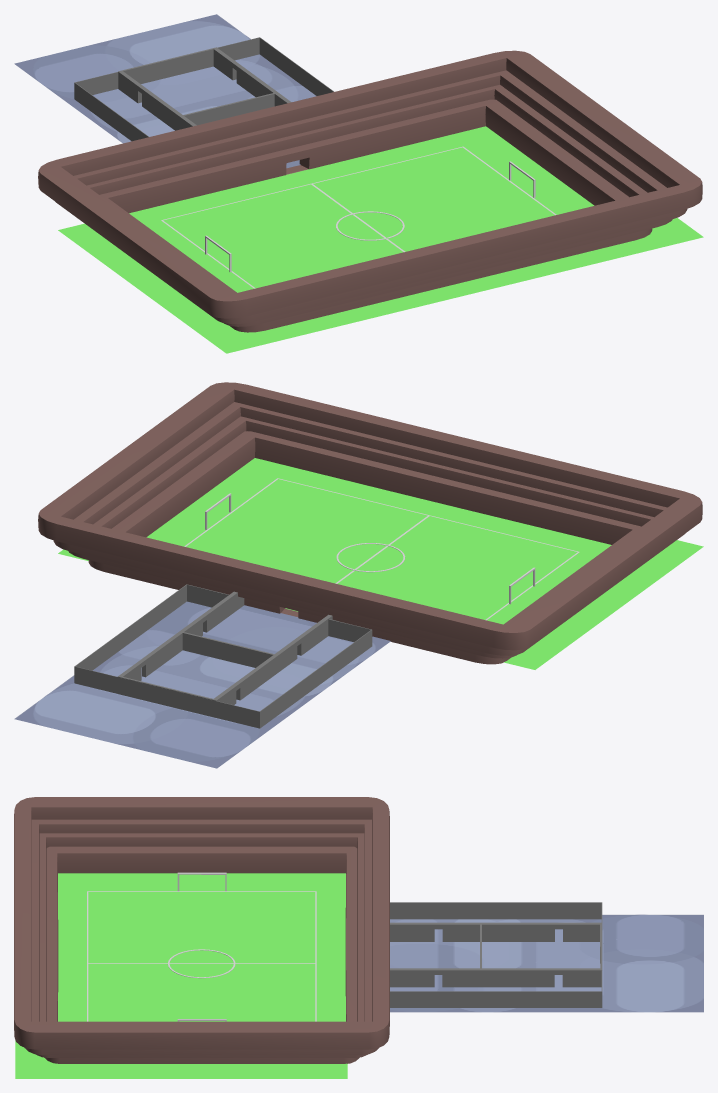
The model's file is estadioNacional.fbx.
3 renders of one model, top to bottom at view 1: azimuth 30°, elevation 25°; view 2: azimuth 150°, elevation 25°; view 3: azimuth 270°, elevation 25°, orthographic.
Visible parts, largest first — view 1: cUBE, Plane.007, Plane.002, Cube.002, Cube, Cube.001; view 2: cUBE, Plane.007, Plane.002, Cube, Cube.001, Cube.002; view 3: cUBE, Plane.007, Plane.002, Cube, Cube.002, Cube.001.
Part boxes in pixels (<box>): cUBE: <box>38,50,702,332</box>; Plane.007: <box>58,126,703,353</box>; Plane.002: <box>14,14,316,168</box>; Cube.002: <box>118,47,276,130</box>; Cube: <box>74,37,334,141</box>; Cube.001: <box>179,92,291,129</box>; cUBE: <box>38,382,702,664</box>; Plane.007: <box>58,458,703,669</box>; Plane.002: <box>14,601,390,768</box>; Cube: <box>74,584,372,728</box>; Cube.001: <box>179,591,338,672</box>; Cube.002: <box>118,632,278,704</box>; cUBE: <box>14,797,389,1063</box>; Plane.007: <box>15,873,347,1078</box>; Plane.002: <box>390,914,703,1012</box>; Cube: <box>390,902,602,1007</box>; Cube.002: <box>479,922,602,987</box>; Cube.001: <box>390,922,481,987</box>.
Bounding box in the file's own units: 299 × 29.62 × 369.
6 materials, 2 textured.
